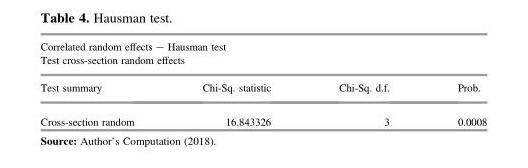table: (39, 39, 486, 127)
table column: (167, 39, 304, 127), (39, 39, 167, 127), (304, 39, 422, 127), (422, 39, 486, 127)
table projected row header: (39, 52, 486, 72), (39, 39, 486, 52)
table row: (39, 72, 486, 103), (39, 103, 486, 127), (39, 52, 486, 72), (39, 39, 486, 52)
